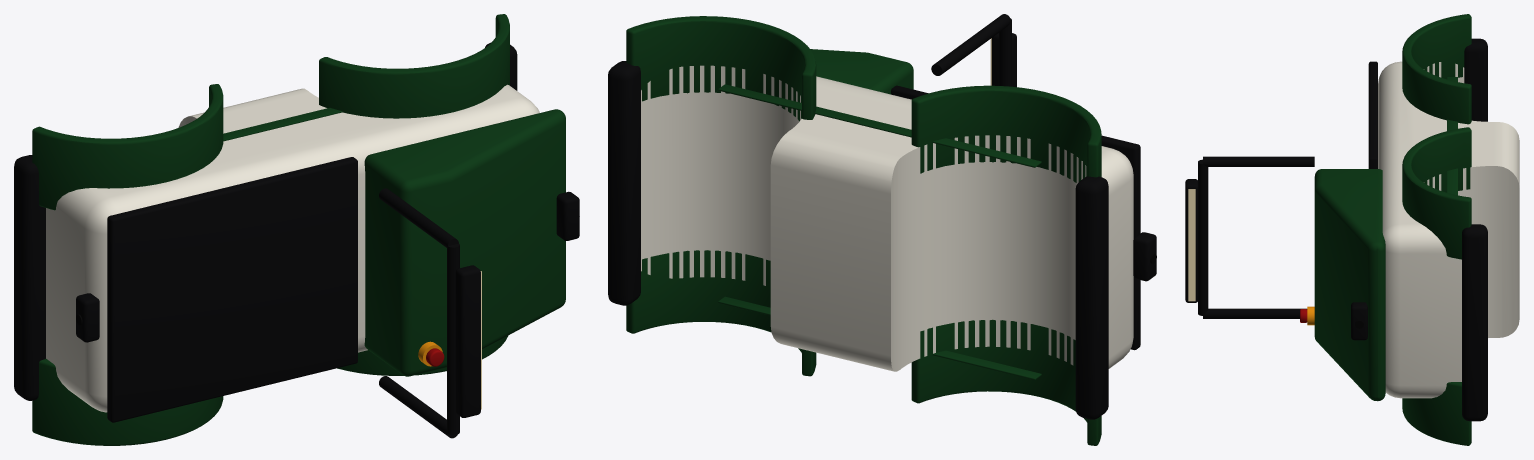
File: rover_body.obj
The picture shows the model from 3 angles, left to right: view 1: azimuth 30°, elevation 25°; view 2: azimuth 150°, elevation 25°; view 3: azimuth 270°, elevation 25°; orthographic projection. The views are drawn at different scales.
Visible parts, largest first — view 1: deck, hood, tub, fender.002, fender, bumper_rear, fender.003, light_bar, hoop_bar, hoop_post, fender.001, hoop_post.001 (+3 smaller); view 2: tub, fender, fender.002, fender.003, fender.001, bumper_rear, bumper_front, hood, stripe, deck, stripe.001, hoop_post (+3 smaller); view 3: tub, hood, fender, fender.002, bumper_front, fender.001, bumper_rear, hoop_bar, hoop_post, deck, light_bar, hoop_post.001 (+3 smaller).
Boxes of the visible parts, left/top/right/bottom form: deck: left=107, top=157, right=357, bottom=422; hood: left=364, top=109, right=565, bottom=376; tub: left=46, top=84, right=539, bottom=412; fender.002: left=32, top=84, right=223, bottom=210; fender: left=319, top=14, right=509, bottom=118; bumper_rear: left=14, top=155, right=45, bottom=400; fender.003: left=32, top=359, right=223, bottom=445; light_bar: left=455, top=265, right=480, bottom=417; hoop_bar: left=447, top=243, right=459, bottom=434; hoop_post: left=379, top=188, right=458, bottom=247; fender.001: left=337, top=336, right=507, bottom=375; hoop_post.001: left=379, top=376, right=457, bottom=438; tub: left=641, top=65, right=1133, bottom=371; fender: left=626, top=16, right=816, bottom=121; fender.002: left=911, top=85, right=1101, bottom=182; fender.003: left=911, top=319, right=1101, bottom=445; fender.001: left=626, top=250, right=816, bottom=376; bumper_rear: left=1075, top=176, right=1108, bottom=419; bumper_front: left=608, top=61, right=640, bottom=305; hood: left=810, top=49, right=913, bottom=94; stripe: left=718, top=84, right=1041, bottom=167; deck: left=891, top=85, right=1140, bottom=350; stripe.001: left=718, top=296, right=1041, bottom=379; hoop_post: left=931, top=14, right=1010, bottom=75; tub: left=1378, top=61, right=1519, bottom=398; hood: left=1314, top=169, right=1385, bottom=401; fender: left=1402, top=127, right=1471, bottom=259; fender.002: left=1402, top=14, right=1471, bottom=124; bumper_front: left=1462, top=224, right=1487, bottom=421; fender.001: left=1402, top=382, right=1471, bottom=445; bumper_rear: left=1464, top=38, right=1487, bottom=121; hoop_bar: left=1198, top=159, right=1208, bottom=315; hoop_post: left=1203, top=156, right=1314, bottom=166; deck: left=1368, top=61, right=1377, bottom=168; light_bar: left=1185, top=179, right=1198, bottom=302; hoop_post.001: left=1203, top=308, right=1307, bottom=318.
Bounding box in the file's own units: 1.24 × 0.73 × 0.8975.
